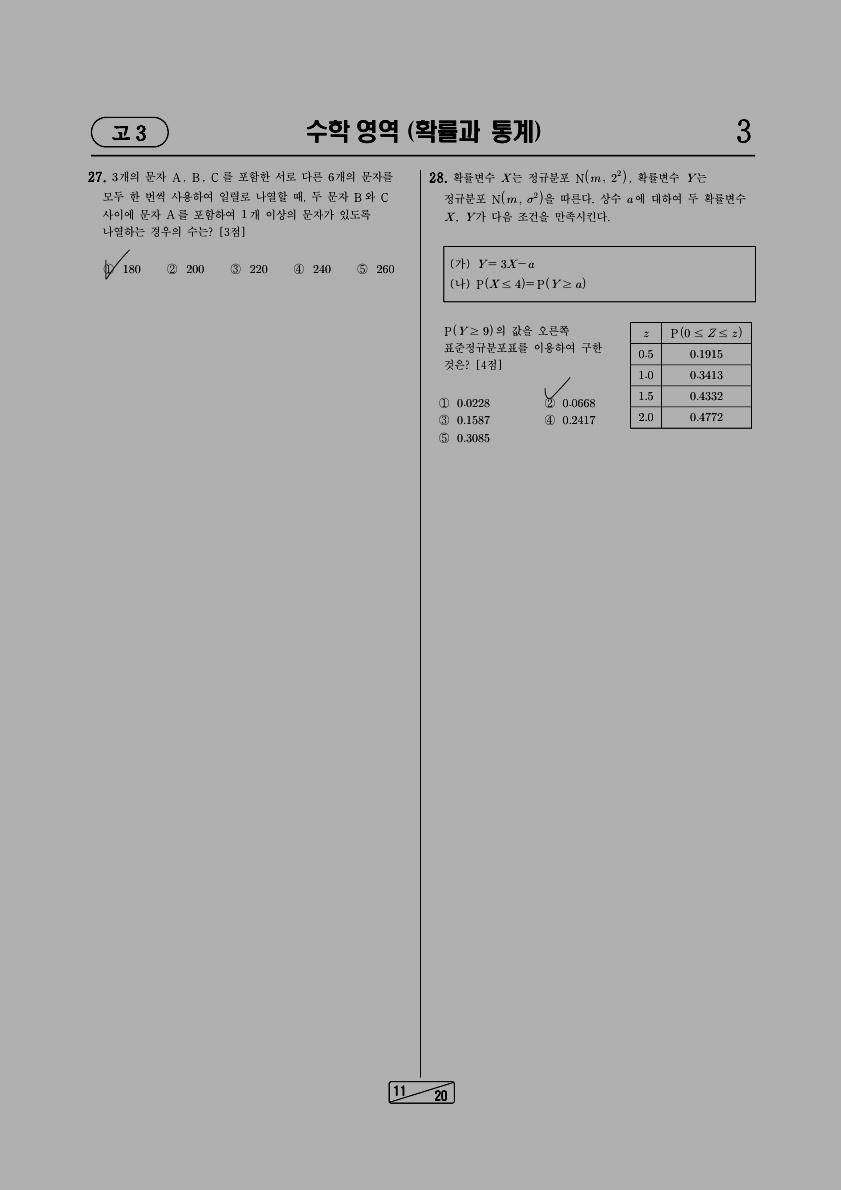question: (423, 160, 770, 467), (67, 158, 414, 296)
